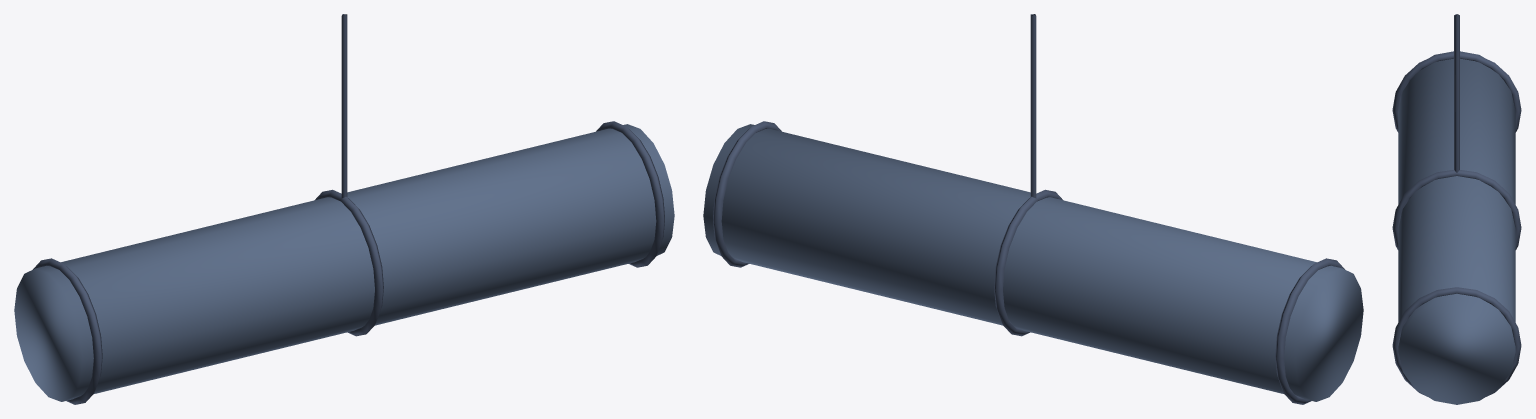
File: aqua_duct.glb
The picture shows the model from 3 angles, left to right: view 1: azimuth 30°, elevation 25°; view 2: azimuth 150°, elevation 25°; view 3: azimuth 270°, elevation 25°; orthographic projection. The views are drawn at different scales.
Parts seen in each view (by area): view 1: Duct.001; view 2: Duct.001; view 3: Duct.001.
Boxes of the visible parts, x1=… form: Duct.001: x1=14, y1=14, x2=674, y2=404; Duct.001: x1=703, y1=14, x2=1363, y2=404; Duct.001: x1=1392, y1=14, x2=1521, y2=404.
Bounding box in the file's own units: 4 × 2.04 × 0.88.
